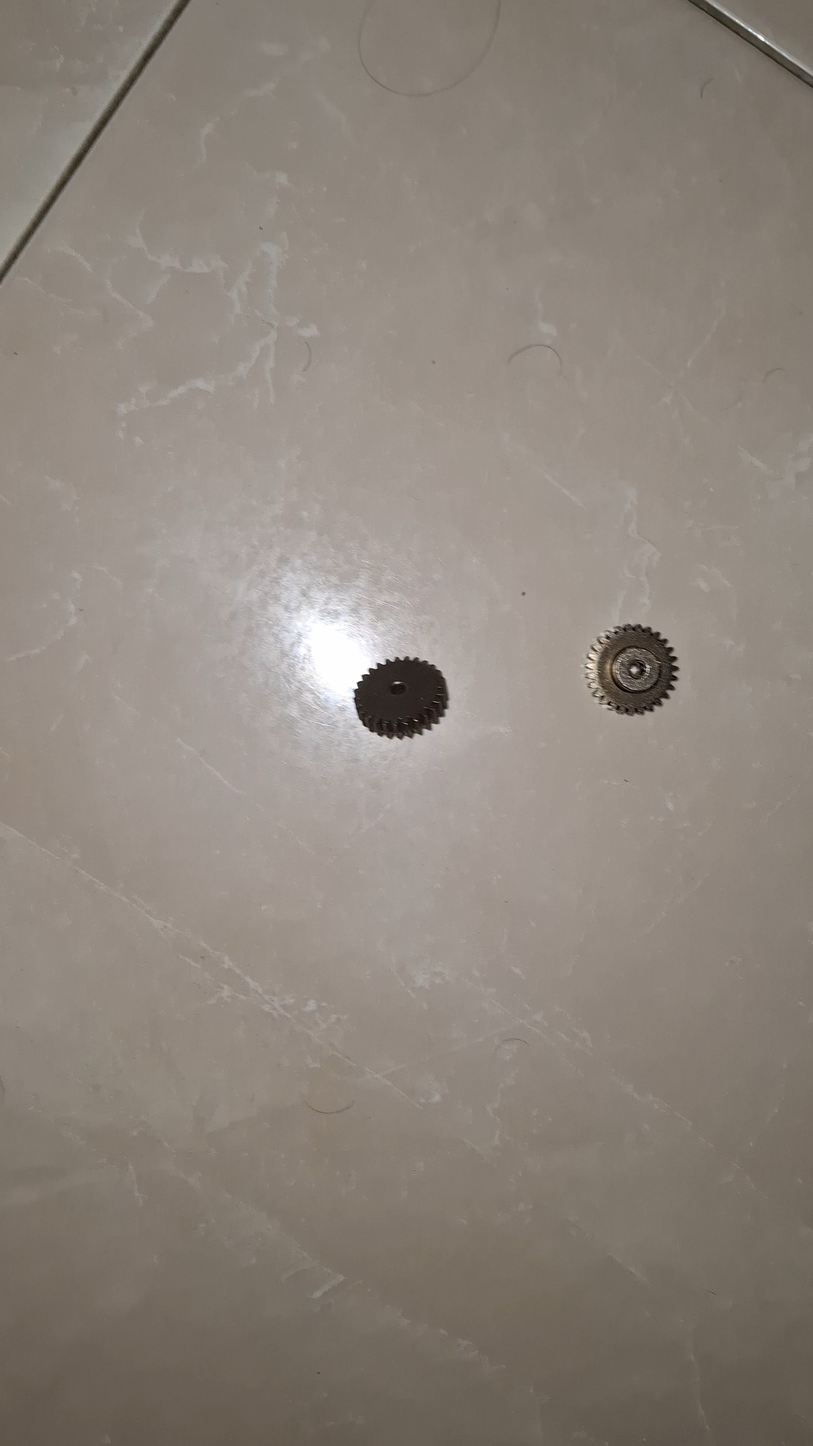spur gear: (585, 624, 677, 714), (354, 658, 448, 738)
